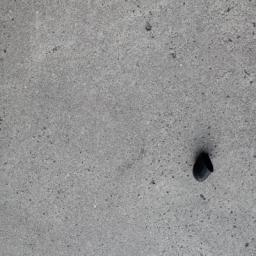FOD: (189, 150, 223, 186)
